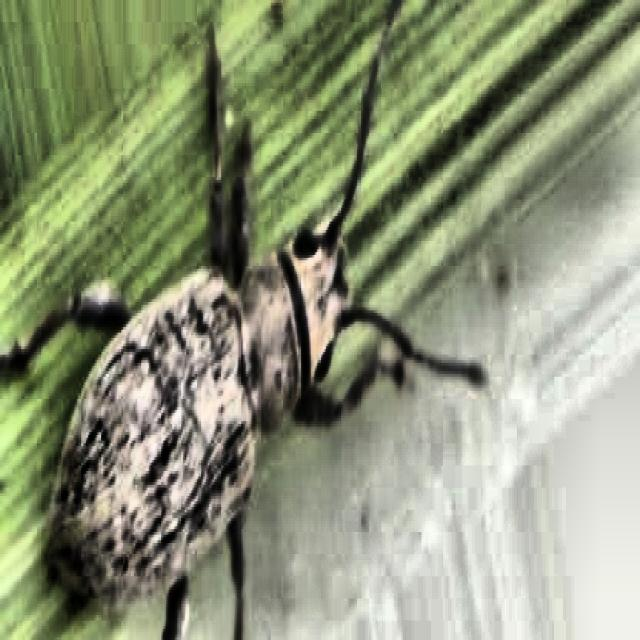Stink bug: (9, 73, 508, 640)
